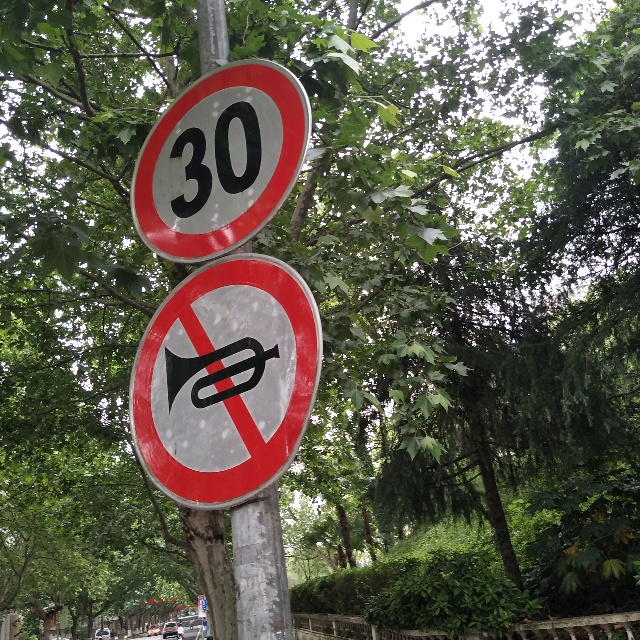nohonk: (147, 298, 291, 464)
